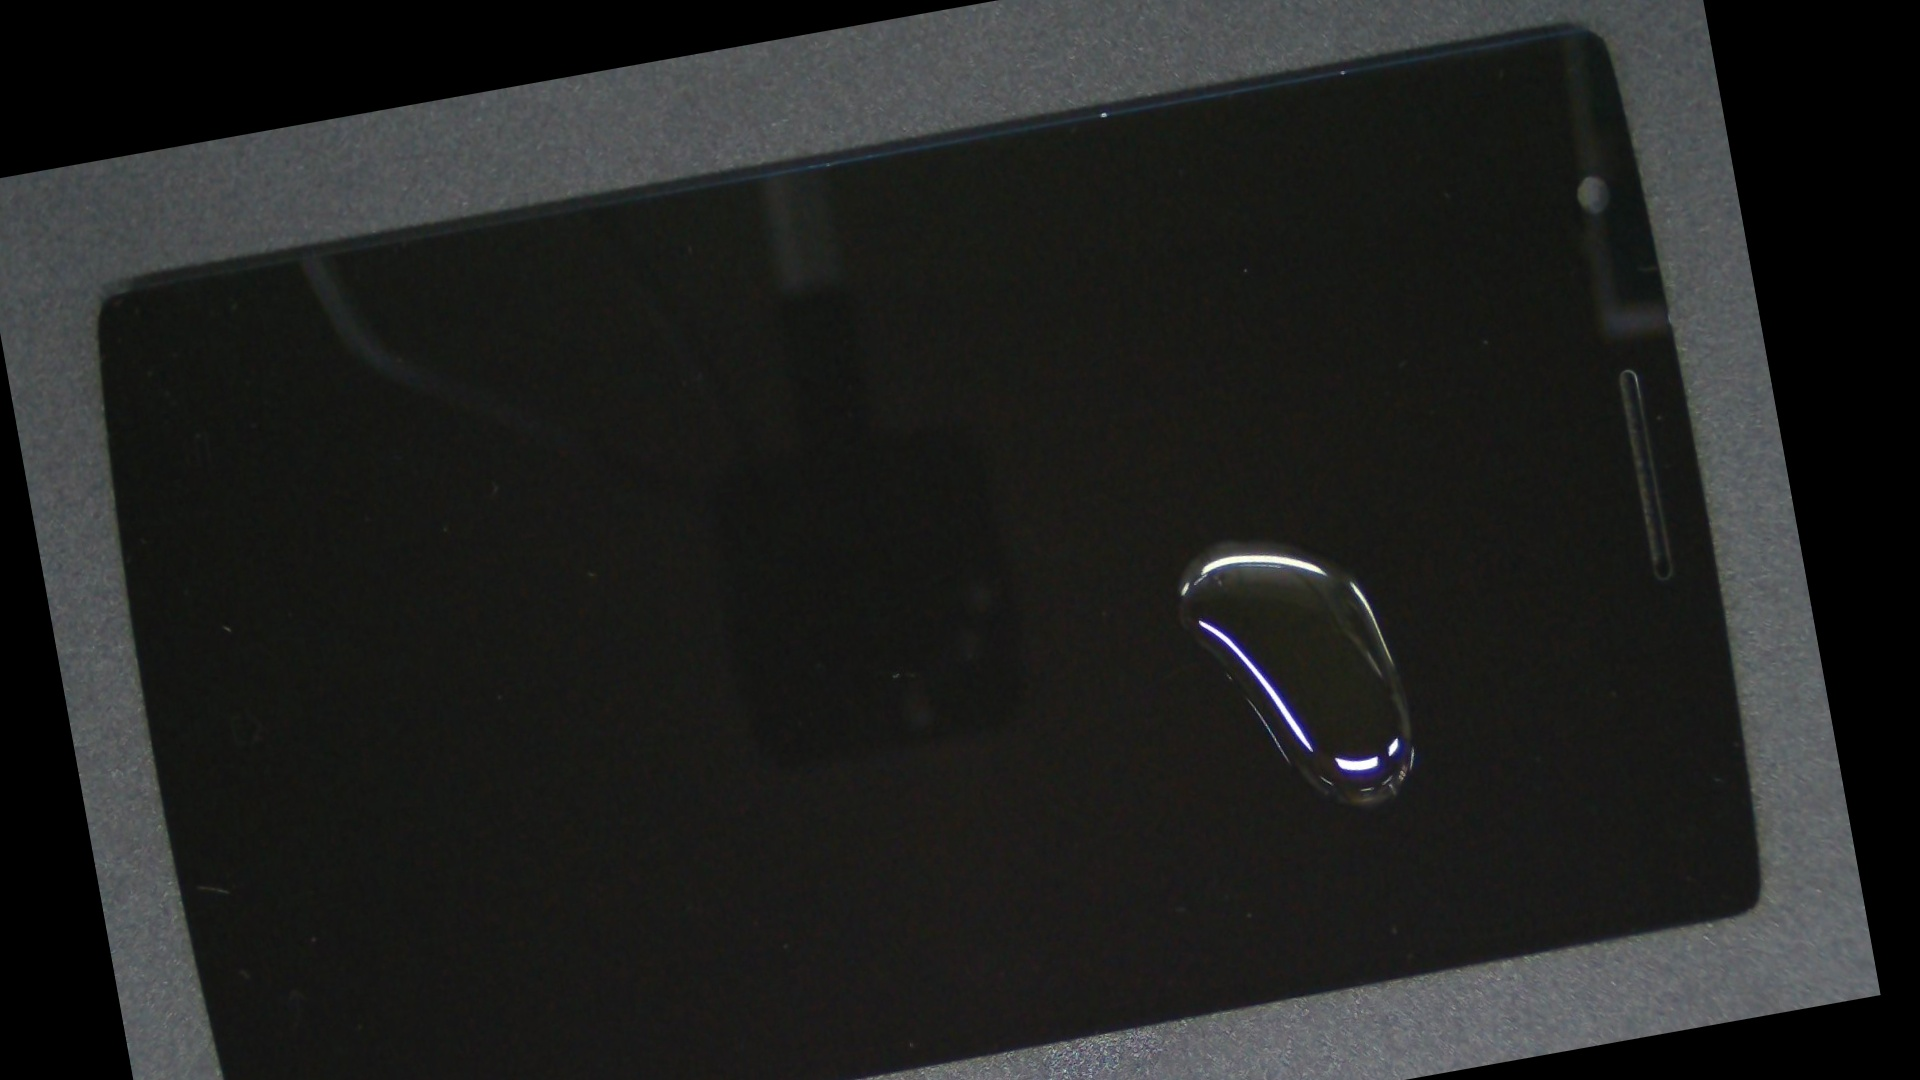oil: (601, 160, 1832, 924)
